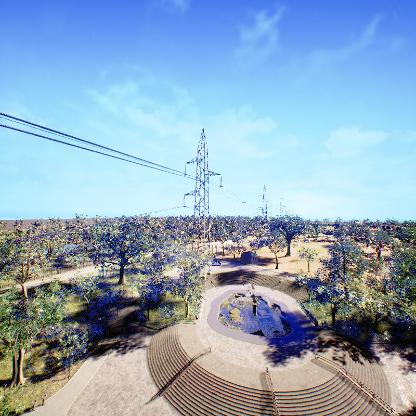tower: (179, 125, 224, 268)
